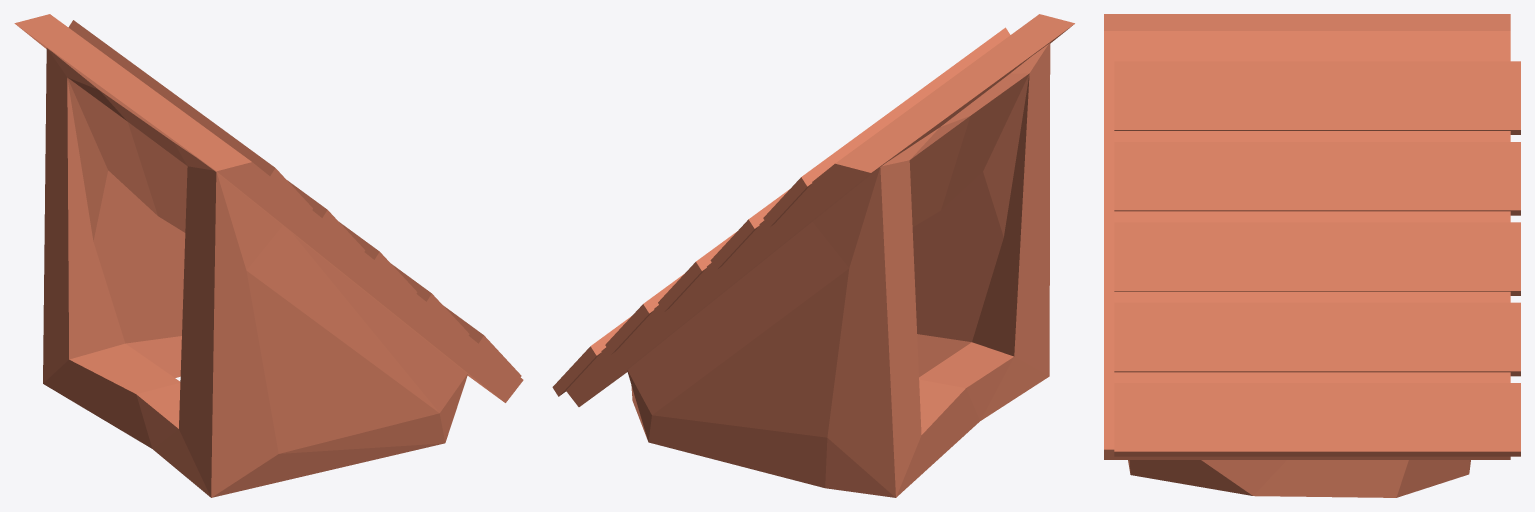
File: woodenRoof.fbx
3 renders of one model, left to right at view 1: azimuth 30°, elevation 25°; view 2: azimuth 150°, elevation 25°; view 3: azimuth 270°, elevation 25°, orthographic.
Visible parts, largest first — view 1: 立方体.007; view 2: 立方体.007; view 3: 立方体.007.
Boxes of the visible parts, x1,y1,x2,y2 form: 立方体.007: [14, 14, 523, 497]; 立方体.007: [552, 14, 1074, 497]; 立方体.007: [1104, 14, 1520, 497].
Bounding box in the file's own units: 177 × 188 × 205.
